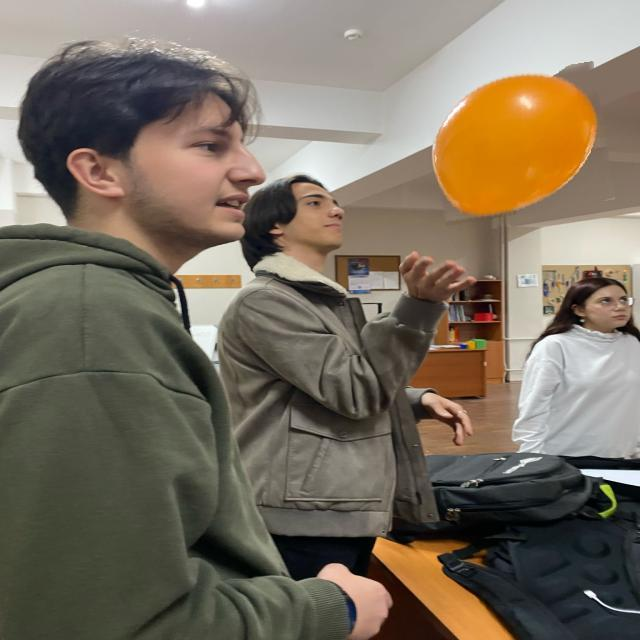balloon: (429, 68, 610, 220)
